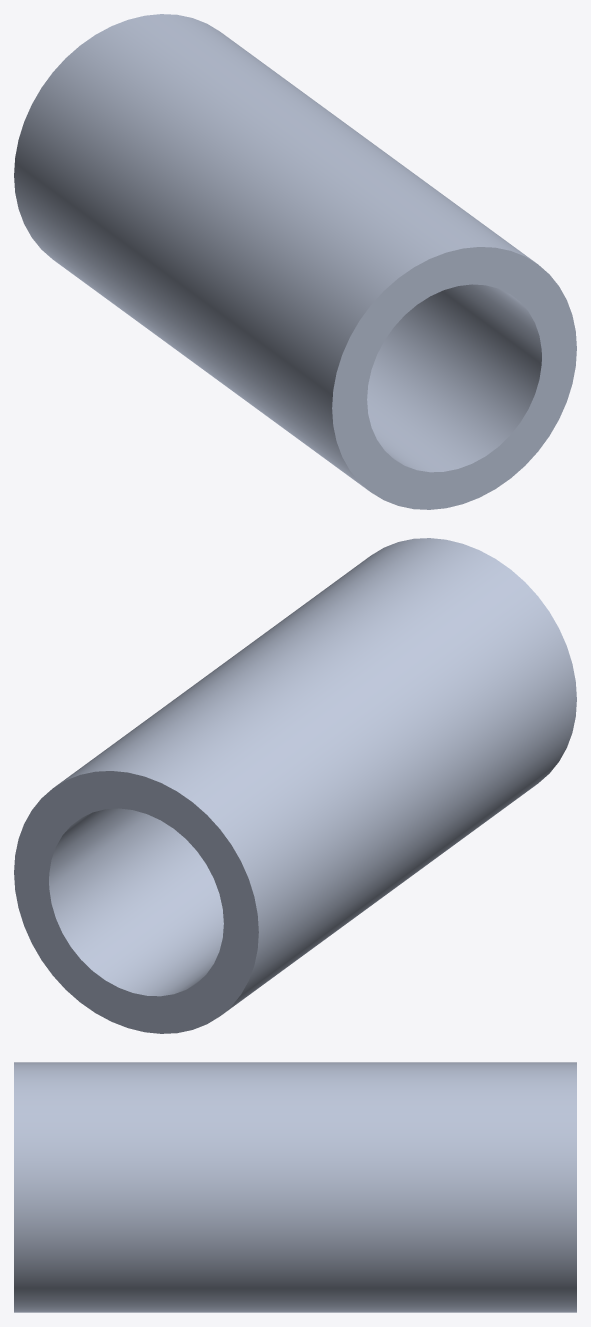
The model's file is UA_26EV_Steering_wheel_4_0__Steering_Spacer_1.dae.
3 views of the same model, one above another, from view 1: azimuth 30°, elevation 25°; view 2: azimuth 150°, elevation 25°; view 3: azimuth 270°, elevation 25° (orthographic). The views are drawn at different scales.
Parts seen in each view (by area): view 1: node0; view 2: node0; view 3: node0.
Part boxes in pixels (x1,y1,x2,y2): node0: (14,14,576,509); node0: (14,538,576,1033); node0: (14,1062,576,1312).
Size of the model in its own units: 0.00889 by 0.00887 by 0.02.
